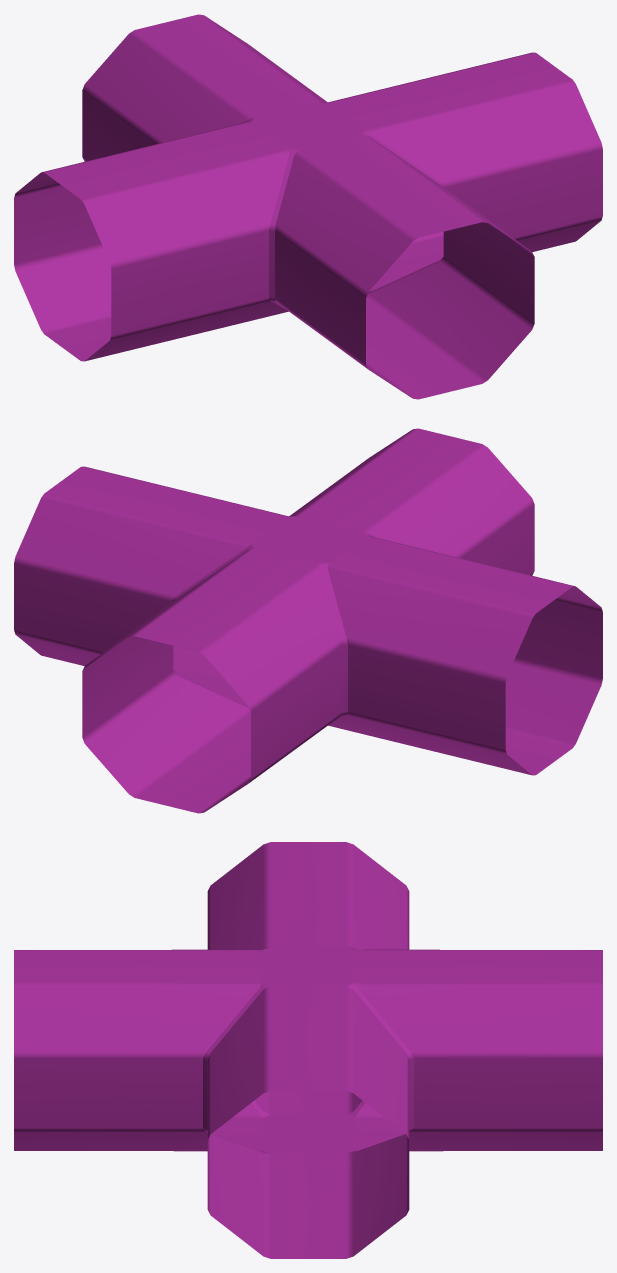
Rendered from Cross Corridor Soft.fbx.
3 views of the same model, one above another, from view 1: azimuth 30°, elevation 25°; view 2: azimuth 150°, elevation 25°; view 3: azimuth 270°, elevation 25° (orthographic). The views are drawn at different scales.
Parts seen in each view (by area): view 1: Cross_Corridor; view 2: Cross_Corridor; view 3: Cross_Corridor.
Part boxes in pixels (x1=…): Cross_Corridor: x1=14, y1=14, x2=602, y2=399; Cross_Corridor: x1=14, y1=428, x2=602, y2=813; Cross_Corridor: x1=14, y1=842, x2=602, y2=1258.
Size of the model in its own units: 70 by 22 by 70.
